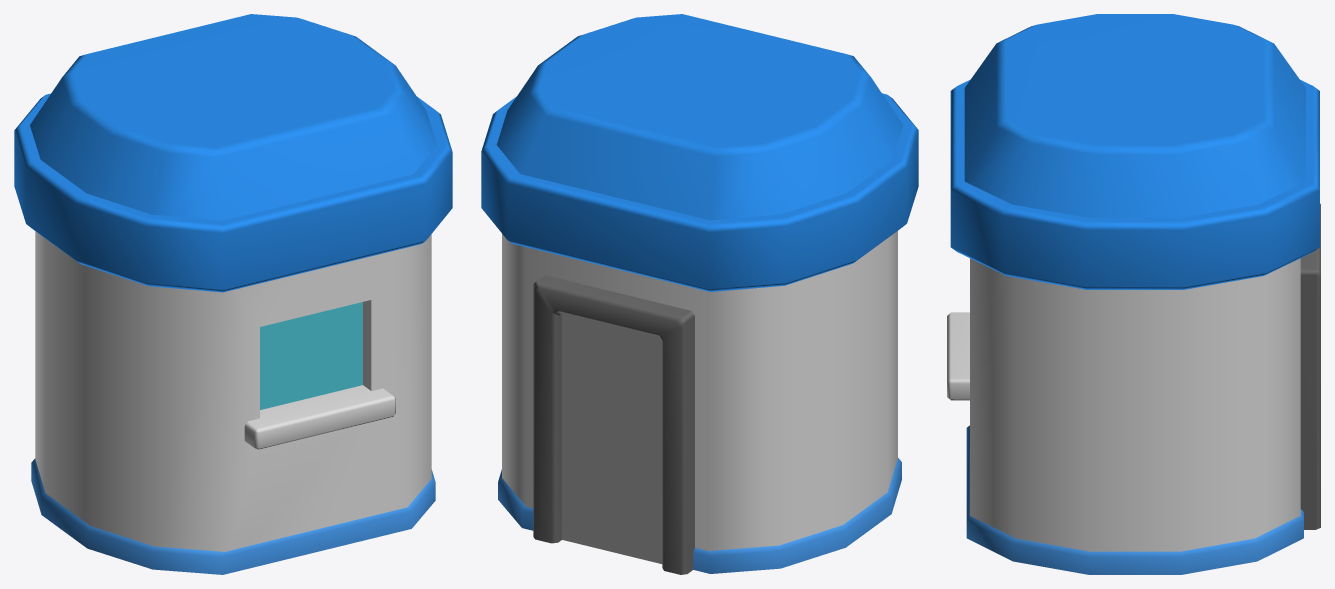
Rendered from ticket_stall_002.gltf.
3 renders of one model, left to right at view 1: azimuth 30°, elevation 25°; view 2: azimuth 150°, elevation 25°; view 3: azimuth 270°, elevation 25°, orthographic.
Visible parts, largest first — view 1: ticket_stall_002; view 2: ticket_stall_002; view 3: ticket_stall_002.
Part boxes in pixels (left/top/right/bottom): ticket_stall_002: left=14, top=14, right=452, bottom=574; ticket_stall_002: left=481, top=14, right=918, bottom=574; ticket_stall_002: left=947, top=14, right=1320, bottom=574.
Bounding box in the file's own units: 3.12 × 3.34 × 2.75.
Materials: 1 (1 with a texture image).
